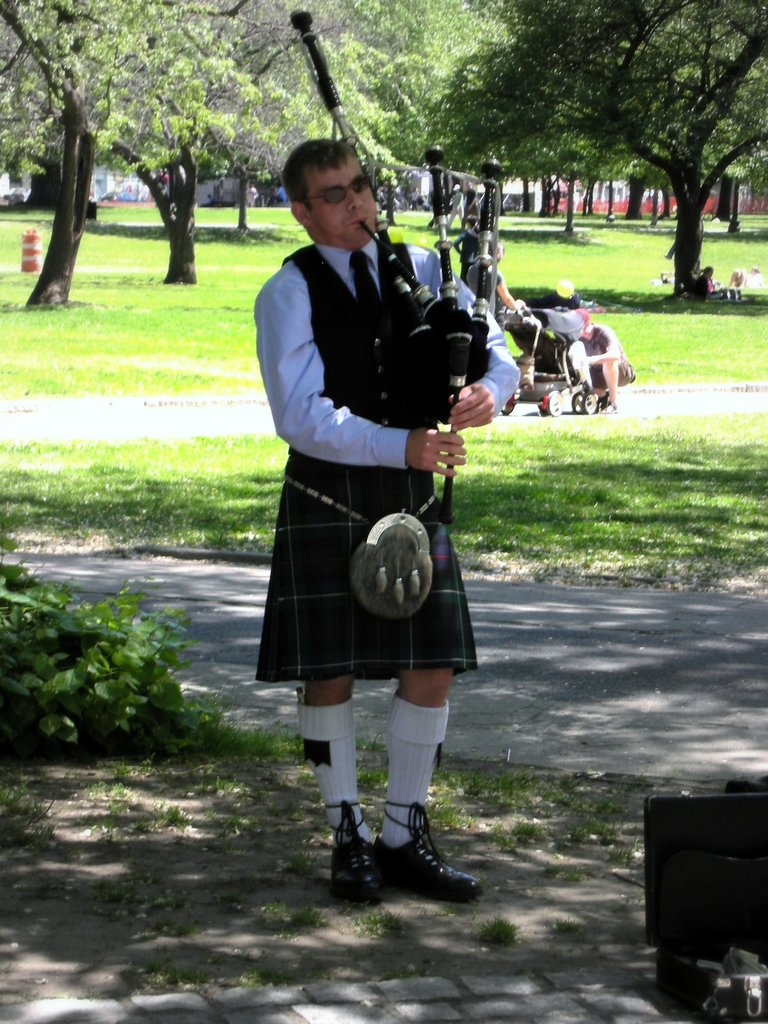Person: (253, 136, 519, 902), (464, 239, 539, 390), (577, 307, 636, 413), (691, 266, 725, 298), (729, 266, 766, 289)
